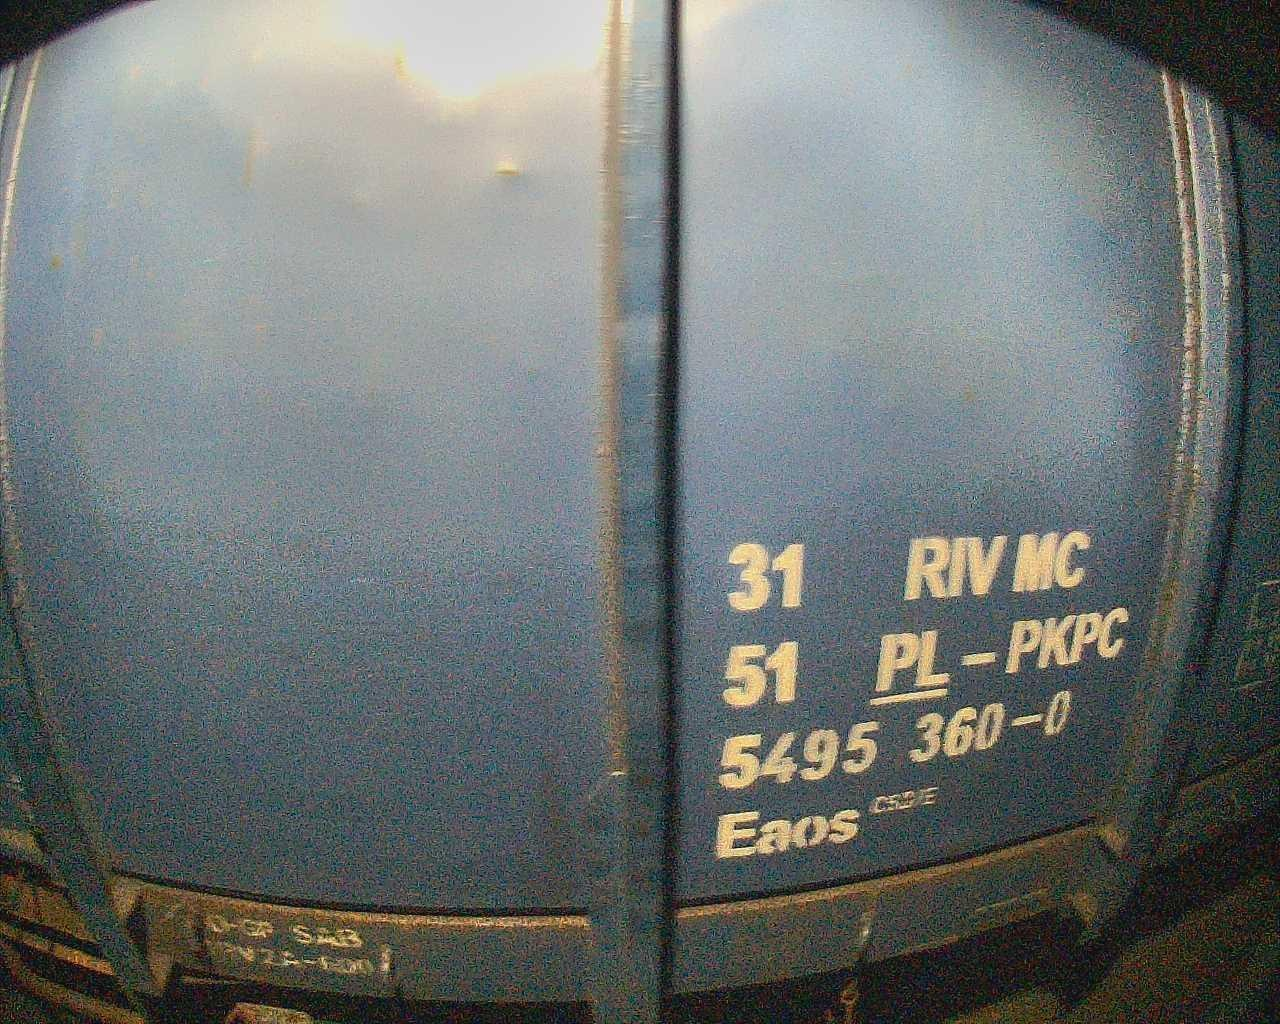UIC: (711, 529, 1128, 864)
